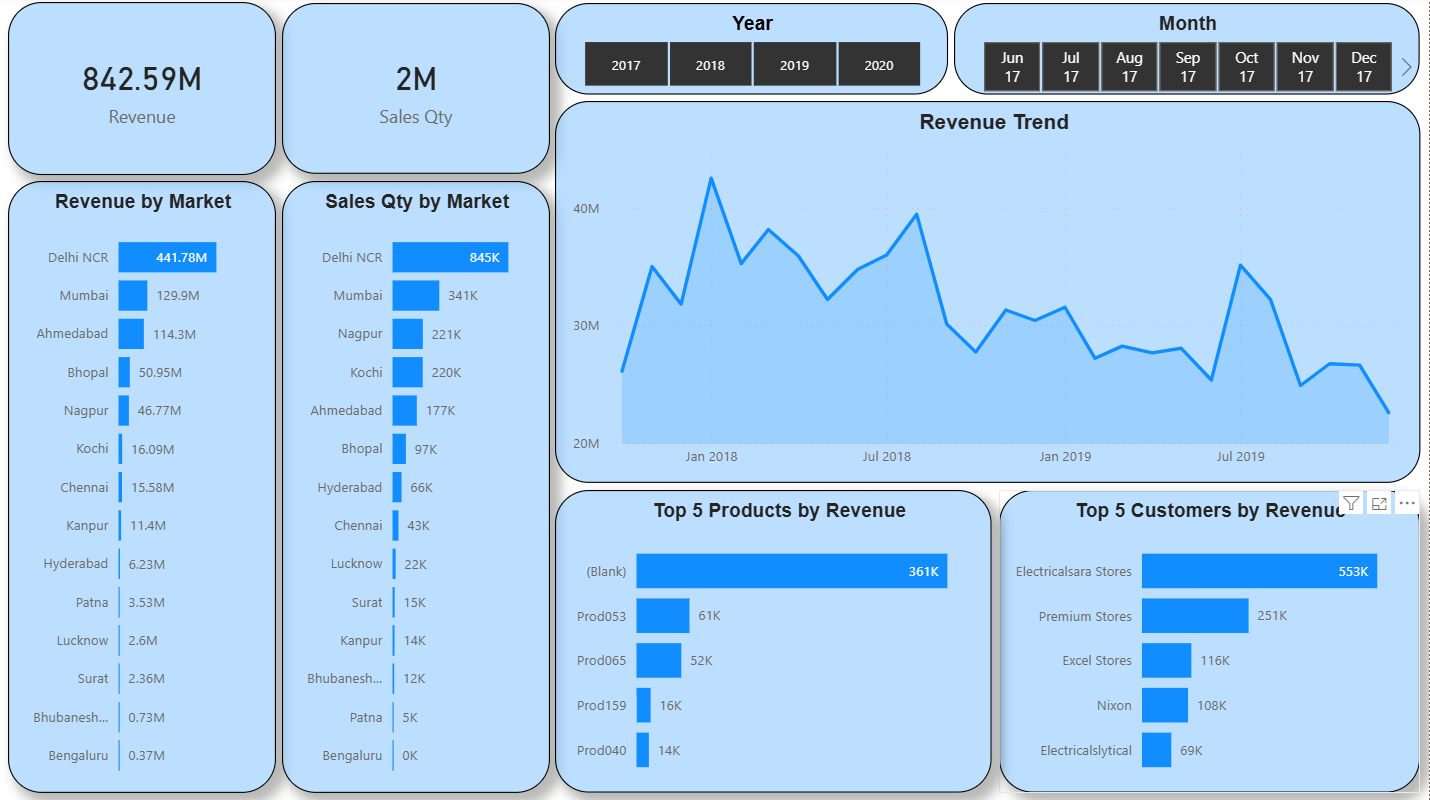

This screenshot's page, from the dashboard's own definition file:
{"tool":"powerbi","page":{"name":"Page 1","canvas":[1280,720],"ordinal":0},"visuals":[{"type":"card","fields":{"Values":["BaseMeasures.Revenue"]},"box":[8.1,4.5,240,154.9],"z":0},{"type":"card","fields":{"Values":["BaseMeasures.Sales Qty"]},"box":[253.4,5.4,240,153.1],"z":1000},{"type":"barChart","title":"Revenue by Market","fields":{"Category":["markets.markets_name"],"Y":["BaseMeasures.Revenue"]},"box":[8.1,164.8,240,548.1],"z":2000},{"type":"barChart","title":"Sales Qty by Market","fields":{"Category":["markets.markets_name"],"Y":["BaseMeasures.Sales Qty"]},"box":[253.4,164.8,240,548.1],"z":3000},{"type":"slicer","title":"Month","fields":{"Values":["date.cy_date"]},"box":[855.2,5.4,417.3,82.4],"z":4000},{"type":"slicer","title":"Year","fields":{"Values":["date.year"]},"box":[497.9,5.4,352,82.4],"z":5000},{"type":"barChart","title":"Top 5 Customers by Revenue","fields":{"Category":["customers.custmer_name"],"Y":["BaseMeasures.Sales Qty"]},"box":[895.5,441.5,377,271.3],"z":6000},{"type":"barChart","title":"Top 5 Products by Revenue","fields":{"Category":["products.product_code"],"Y":["BaseMeasures.Sales Qty"]},"box":[497.9,441.5,391.3,271.3],"z":7000},{"type":"lineChart","title":"Revenue Trend","fields":{"Y":["BaseMeasures.Revenue"],"Category":["date.cy_date.Variation.Date Hierarchy.Year","date.cy_date.Variation.Date Hierarchy.Quarter","date.cy_date.Variation.Date Hierarchy.Month","date.cy_date.Variation.Date Hierarchy.Day"]},"box":[497.9,93.1,774.6,342],"z":8000}]}

Visuals, with their boxes in screenshot pixels (x1, y1, x2, y2), scaled from the page's 1280x720 canvas onto the 1430x800 screenshot:
card - BaseMeasures.Revenue: box=[9, 5, 277, 177]
card - BaseMeasures.Sales Qty: box=[283, 6, 551, 176]
"Revenue by Market" barChart: box=[9, 183, 277, 792]
"Sales Qty by Market" barChart: box=[283, 183, 551, 792]
"Month" slicer: box=[955, 6, 1422, 98]
"Year" slicer: box=[556, 6, 949, 98]
"Top 5 Customers by Revenue" barChart: box=[1000, 491, 1422, 792]
"Top 5 Products by Revenue" barChart: box=[556, 491, 993, 792]
"Revenue Trend" lineChart: box=[556, 103, 1422, 483]
